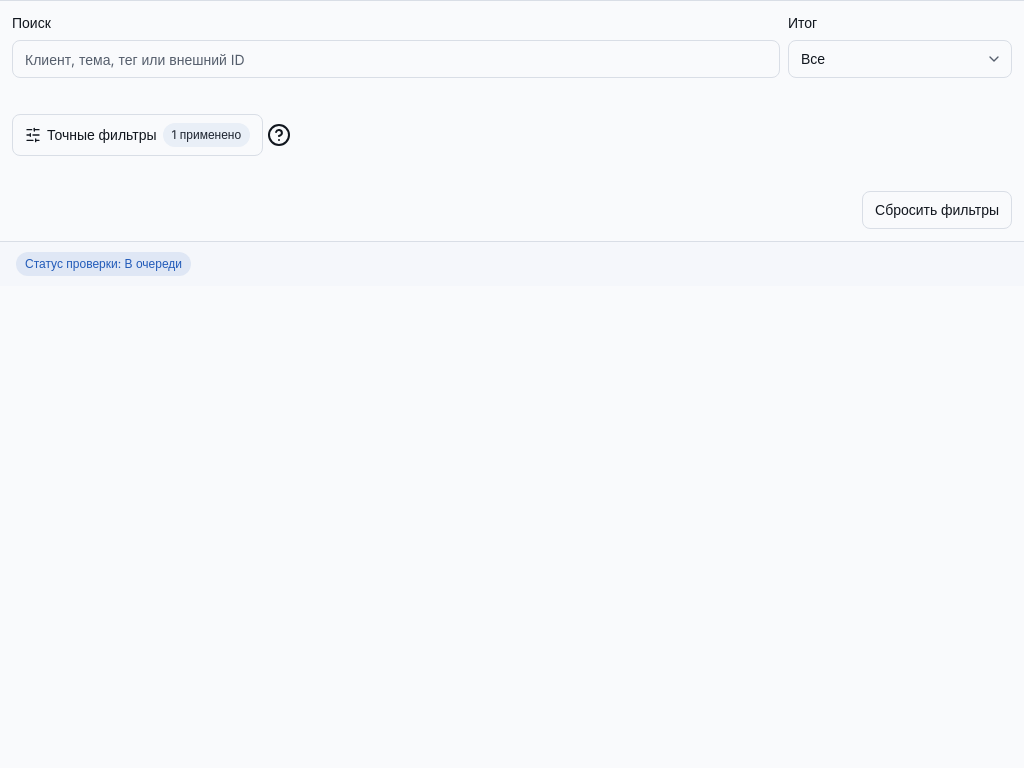
Test: QueueFilters › exposes QA status as a visible exact filter and gives queue search a unique label
expect the field named "Поиск в очереди проверок" is shown: met, box [12,40,780,78]
expect the dropdown labelled "Итог" shows "Все": met, box [788,40,1012,78]
Click the button "Точные фильтры 1 применено": (138, 134) [12,114,263,156]
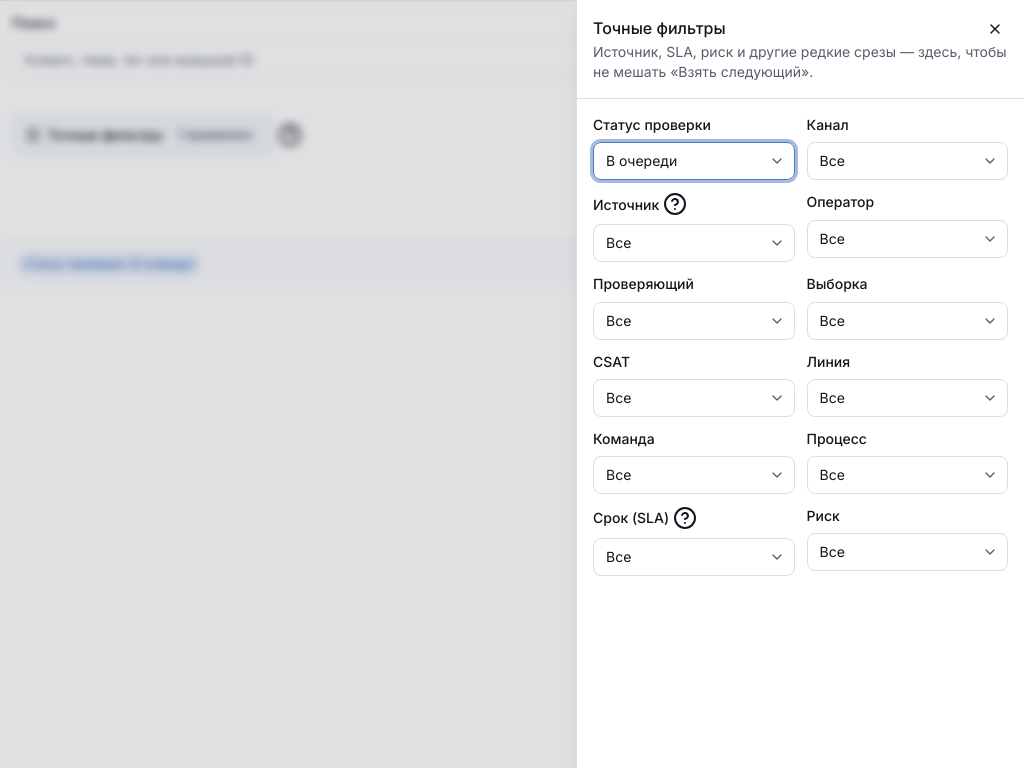
expect the dialog is shown: met, box [576,0,1023,767]
expect the dropdown labelled "Статус проверки" shows "В очереди": met, box [593,142,794,180]
expect the text "Срок (SLA)" is shown: met, box [593,506,697,530]
